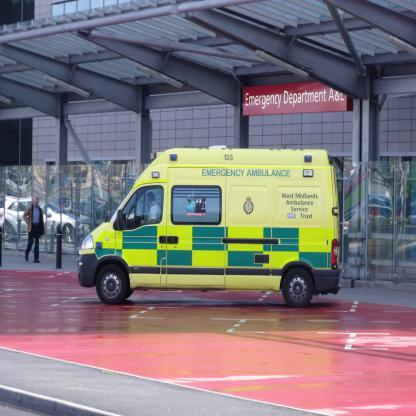Ambulance - v1 Ambulance last generate: (75, 147, 341, 308)
